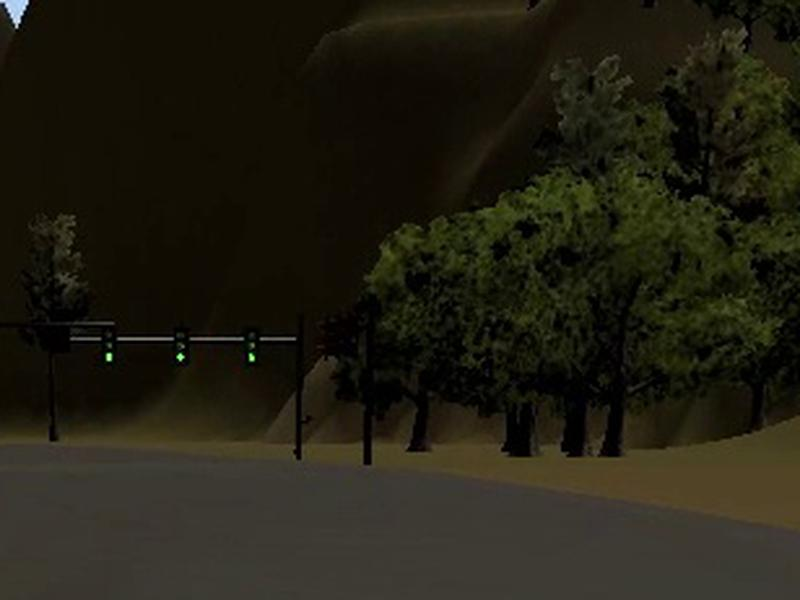Green: (244, 328, 261, 364), (173, 329, 190, 364), (102, 328, 116, 362)
